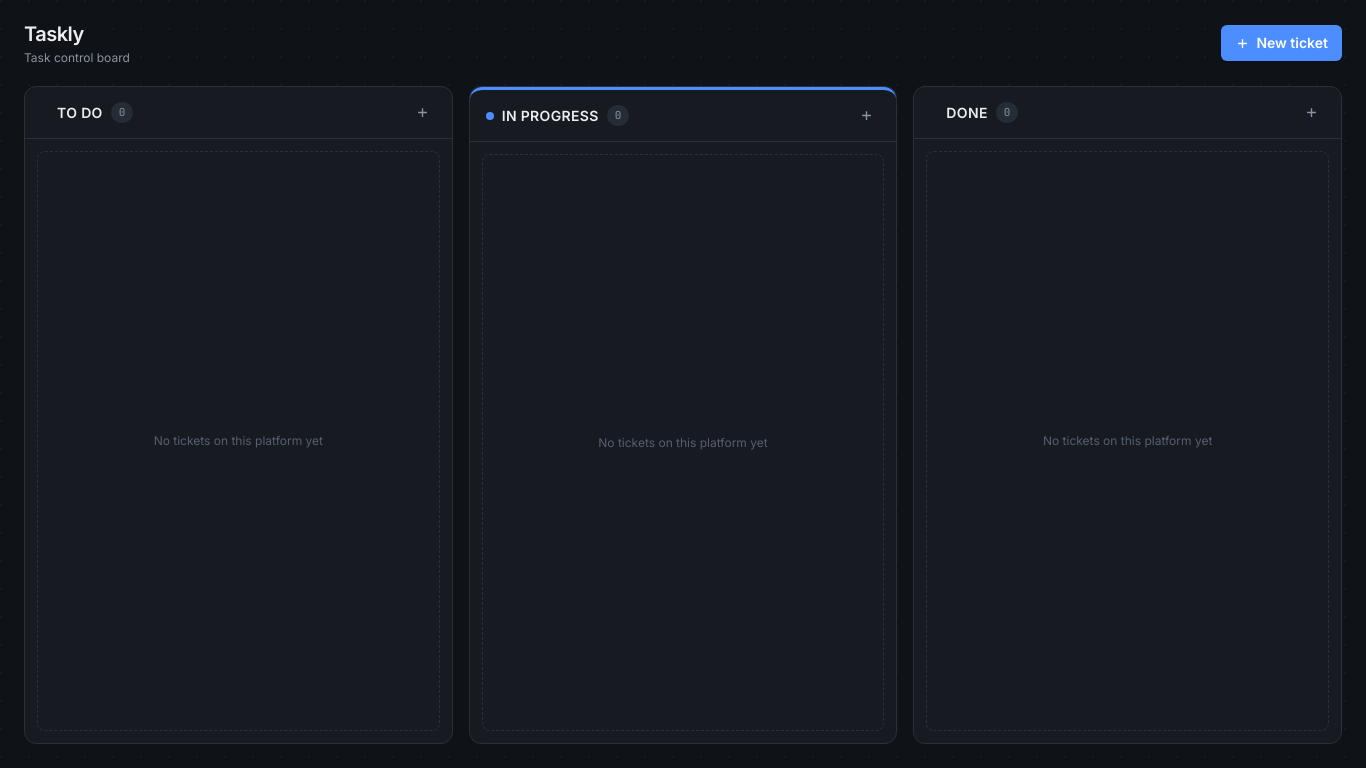
Scenario: creating a task via the UI › shows a validation error and does not create a task when title is empty
Click the button named "Add task to To Do".
click(422, 112)  # box [409,99,436,126]
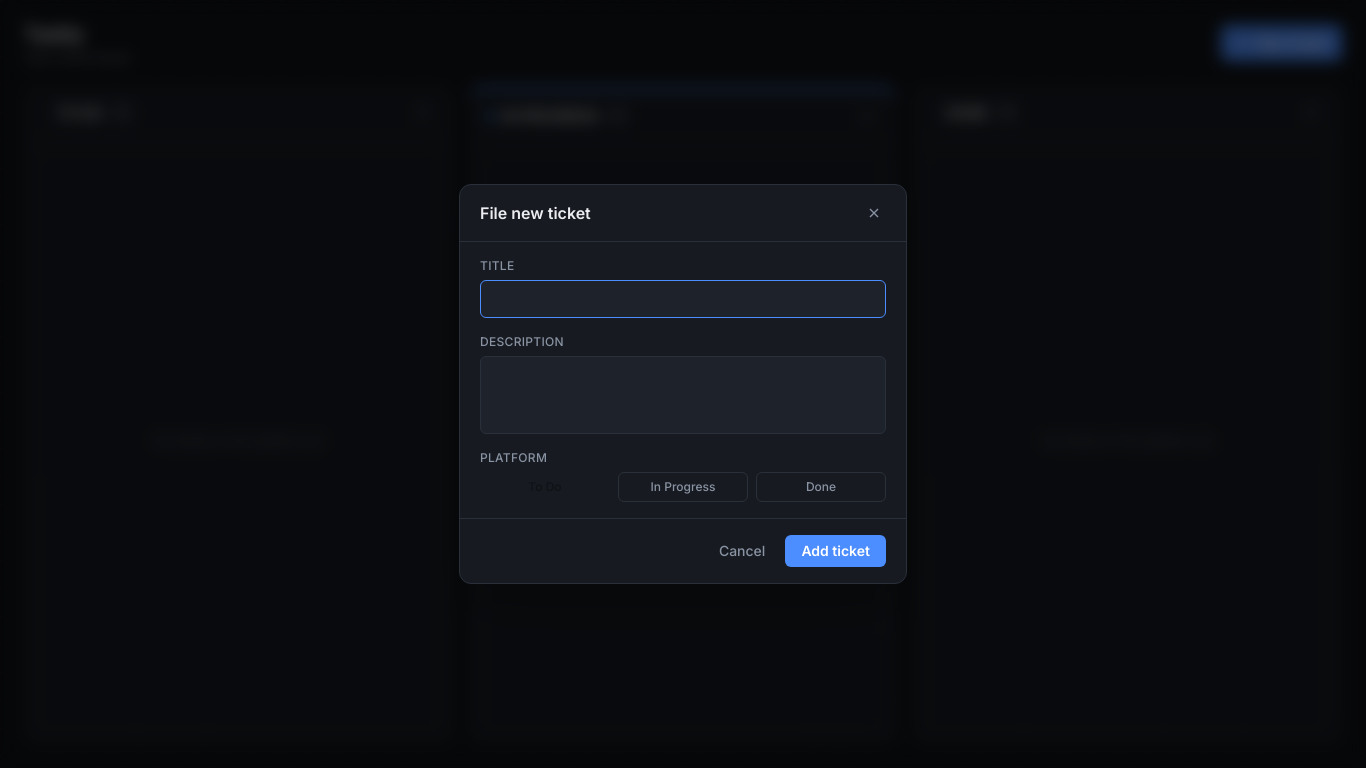
Click the button "Add ticket".
click(836, 551)  # box [785,535,886,567]
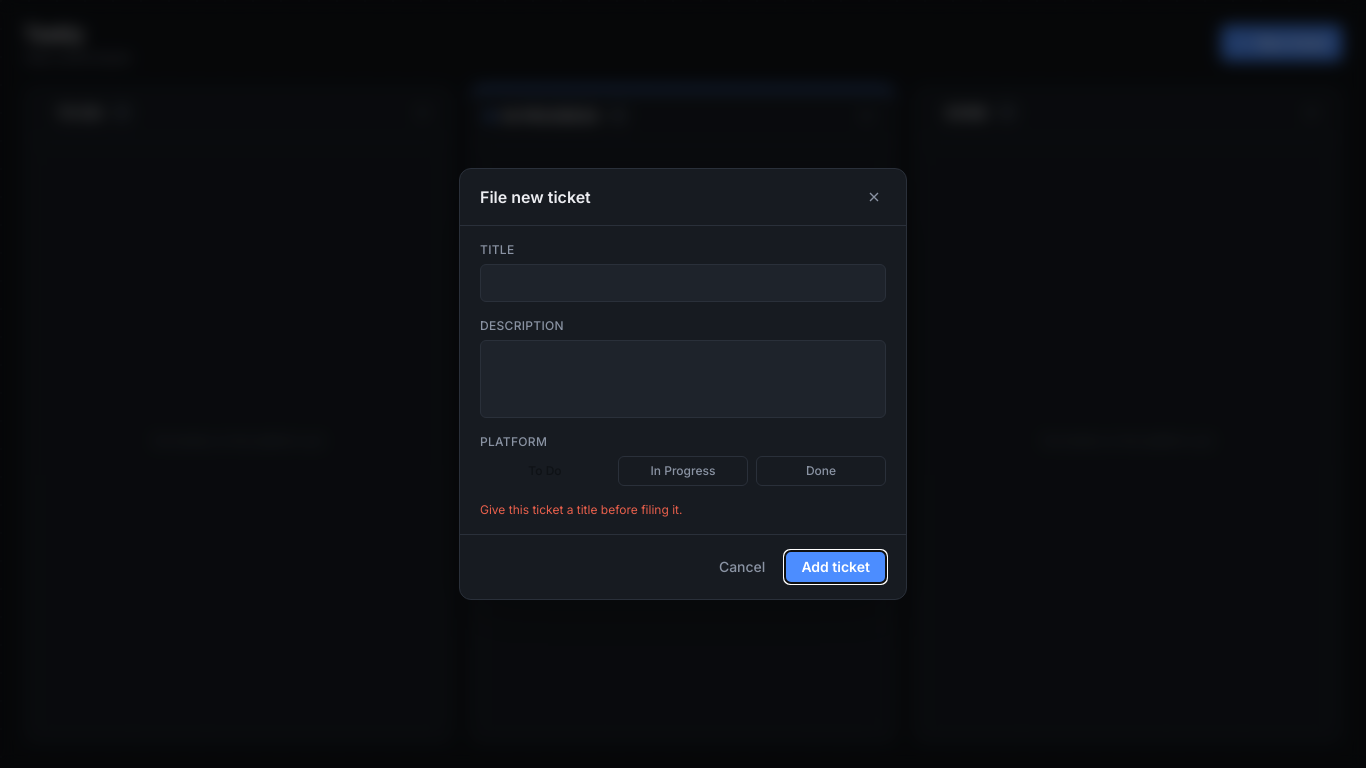
Expected: the message reads "Give this ticket a title before filing it.", [480,502,682,517]
